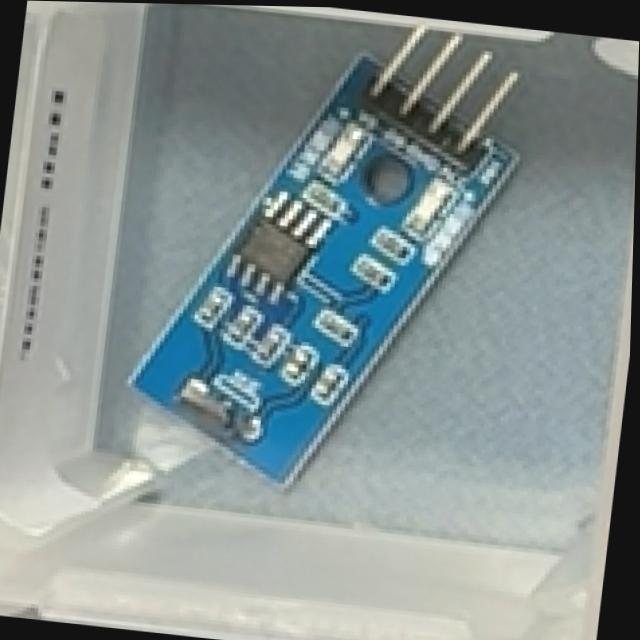Hall Sensor: (115, 3, 538, 514)
